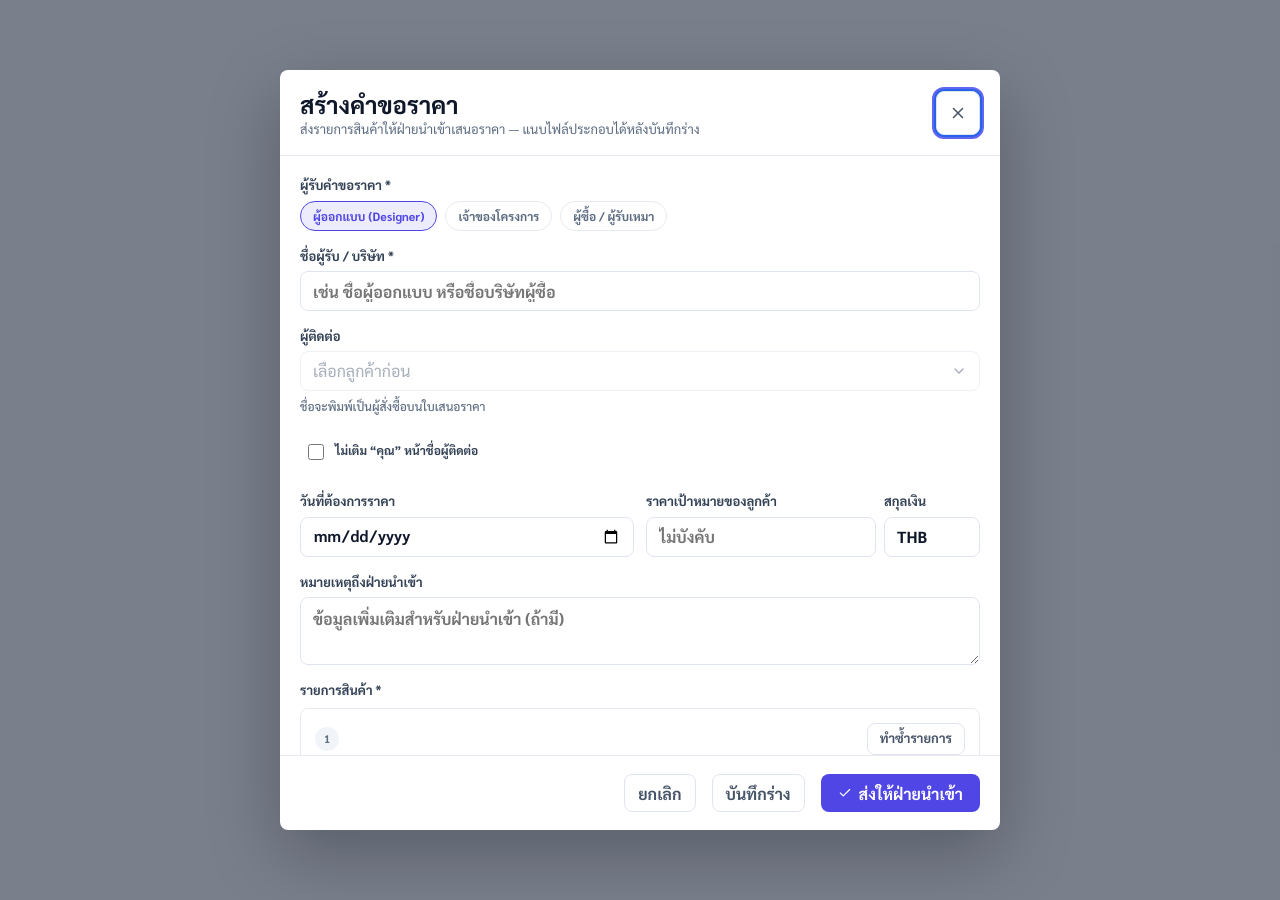
Test: PricingRequestCreateModal › blocks submission with a per-row error when a required field (ความหนา/แผ่น-ตร.ม./แผ่น-กล่อง) is left blank
Type "ผู้ออกแบบ ก." into the field with placeholder "เช่น ชื่อผู้ออกแบบ หรือชื่อบริษัทผู้ซื้อ" at (640, 291), box [300, 271, 980, 311]
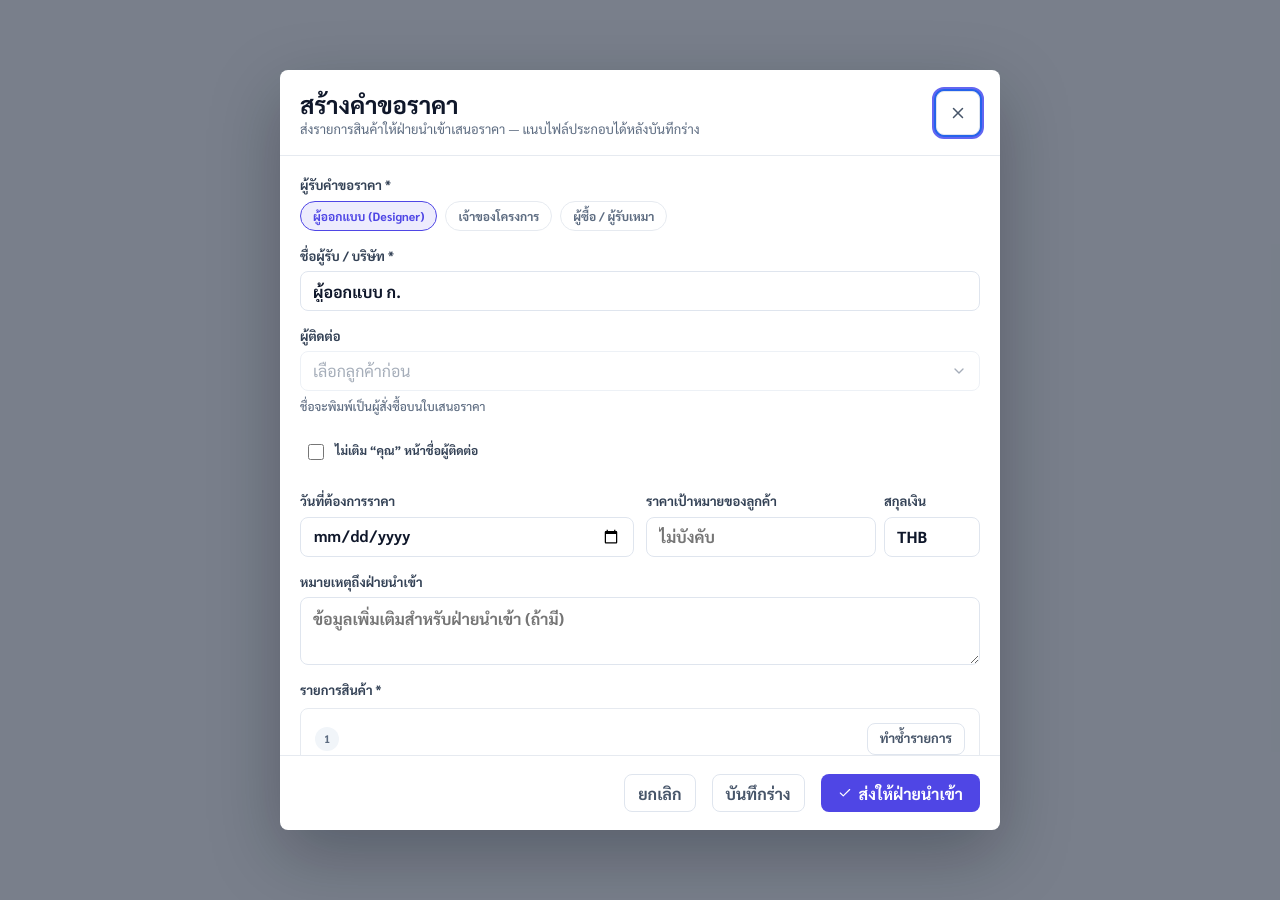
Click the button "ส่งให้ฝ่ายนำเข้า" at (900, 793), box [821, 774, 980, 812]
(page scrolled)
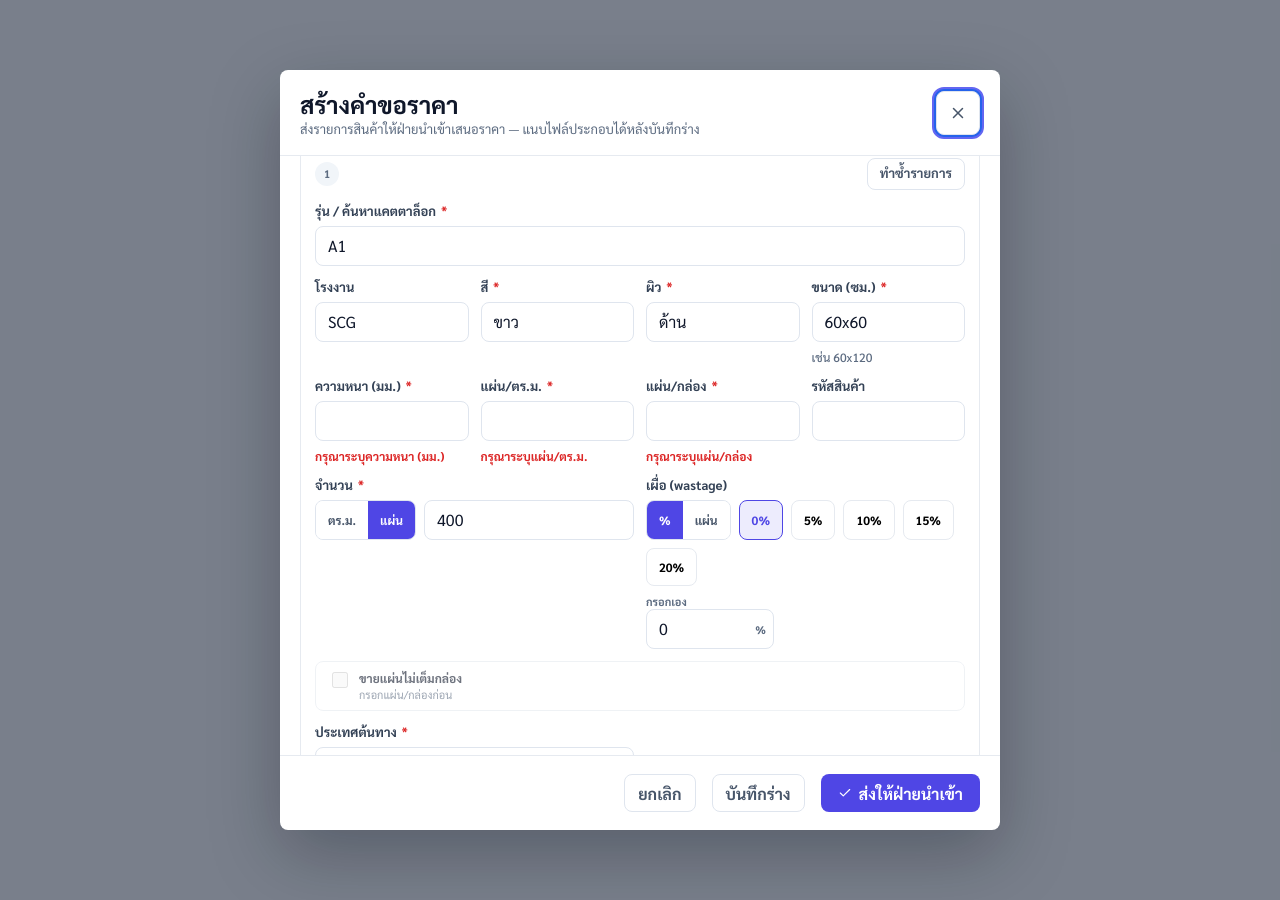
Expected: the text "กรุณาระบุความหนา (มม.)" is shown, [315, 448, 444, 464]
